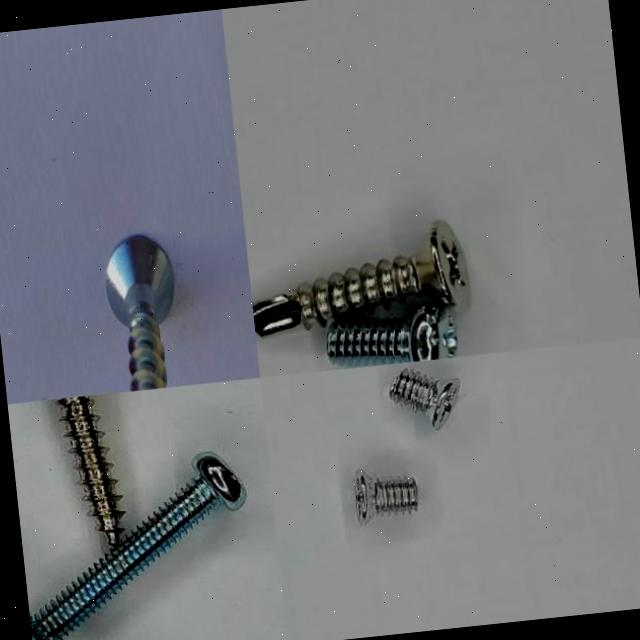Screw: (37, 454, 244, 640), (252, 220, 470, 336), (105, 237, 174, 391), (58, 395, 123, 545), (326, 299, 457, 366), (389, 367, 461, 430), (354, 469, 419, 525)
